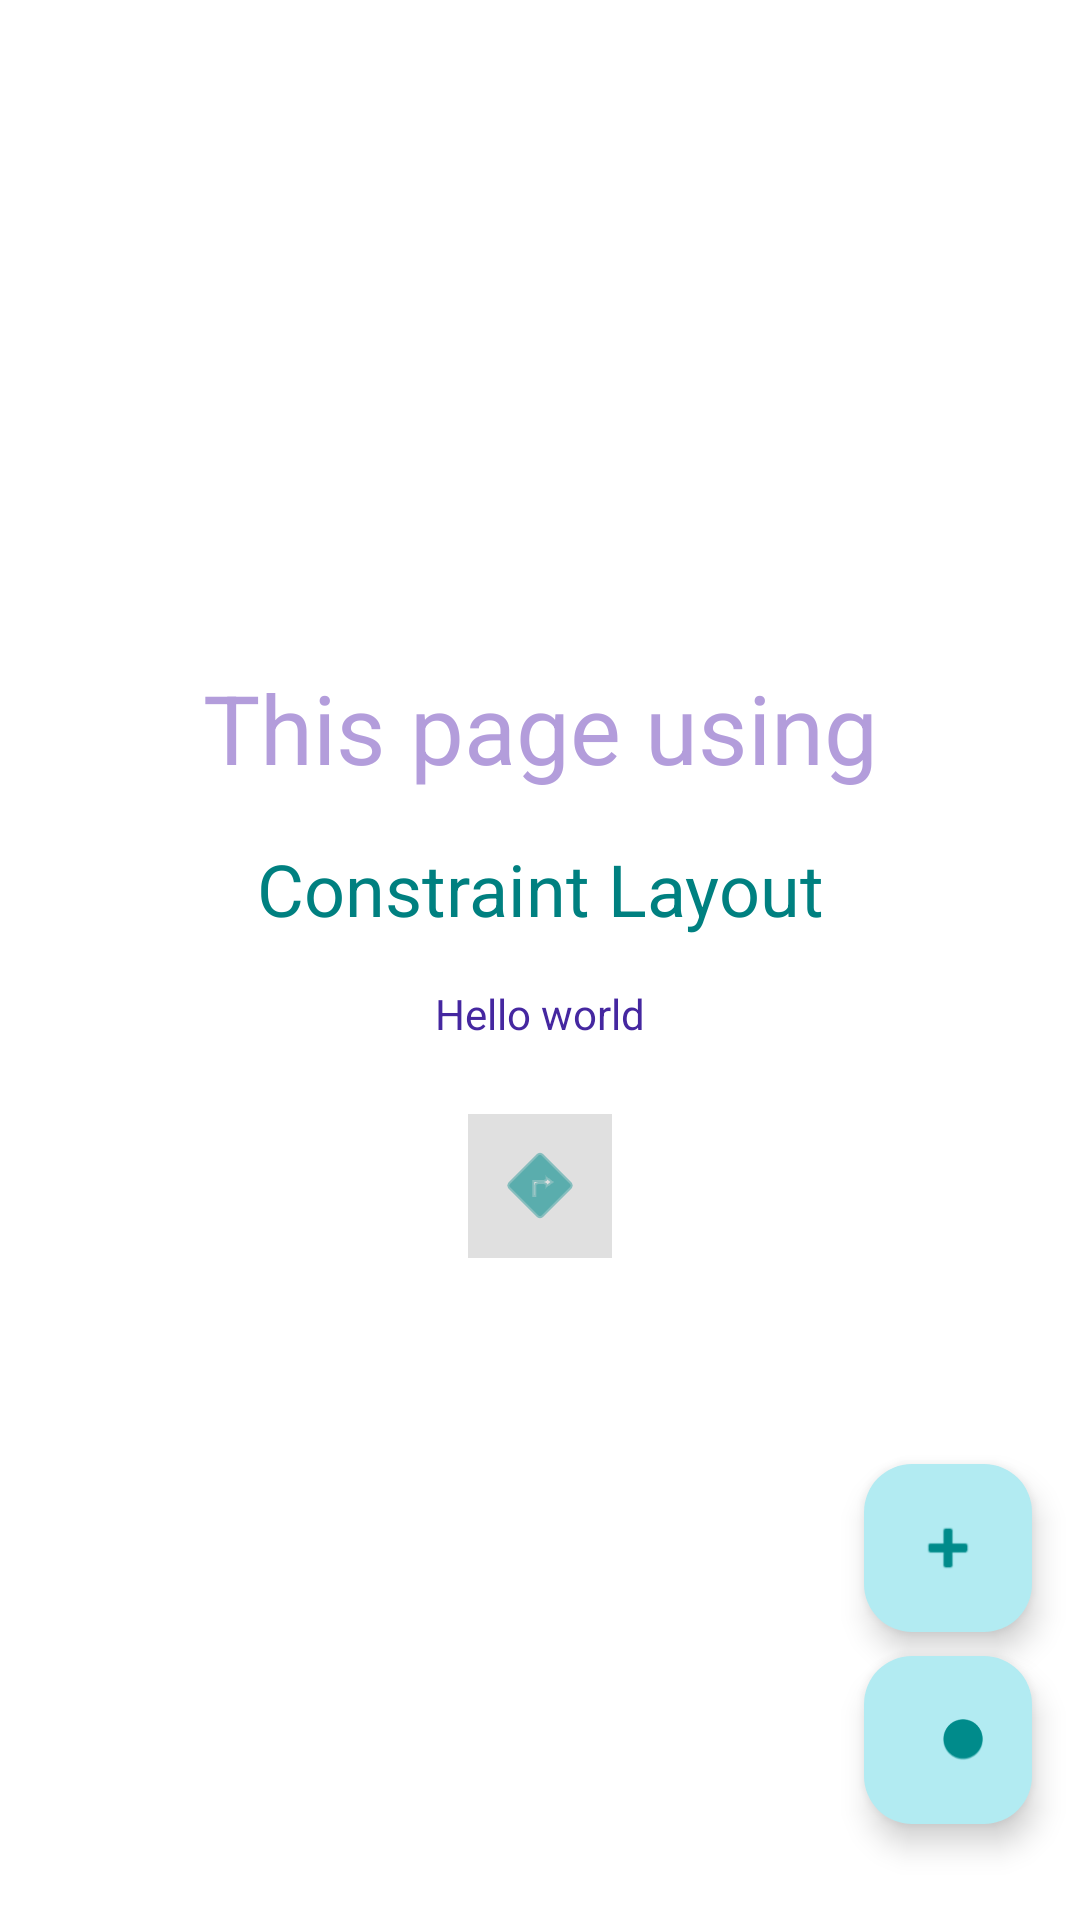

Icon click points for this 1080×1920 phone screenshot, format (x,y):
add: (948,1548)
